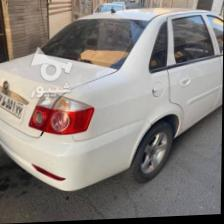plate: (0, 91, 23, 120)
